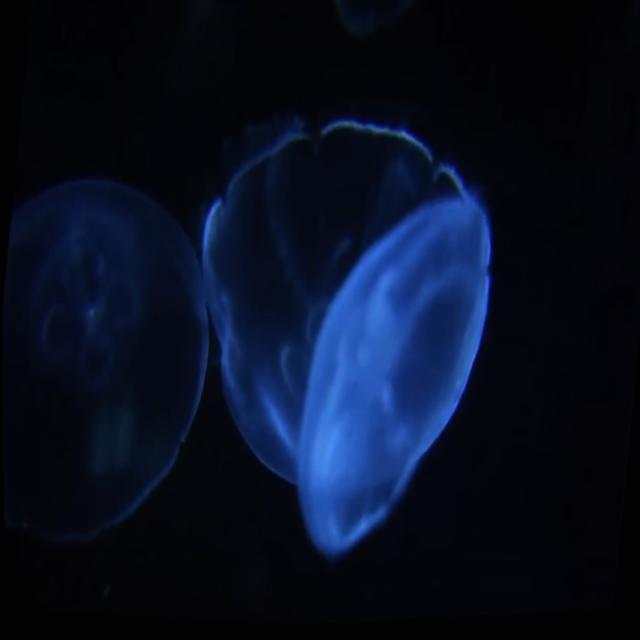Moon-jellyfish: (201, 116, 494, 563), (2, 174, 211, 542)
